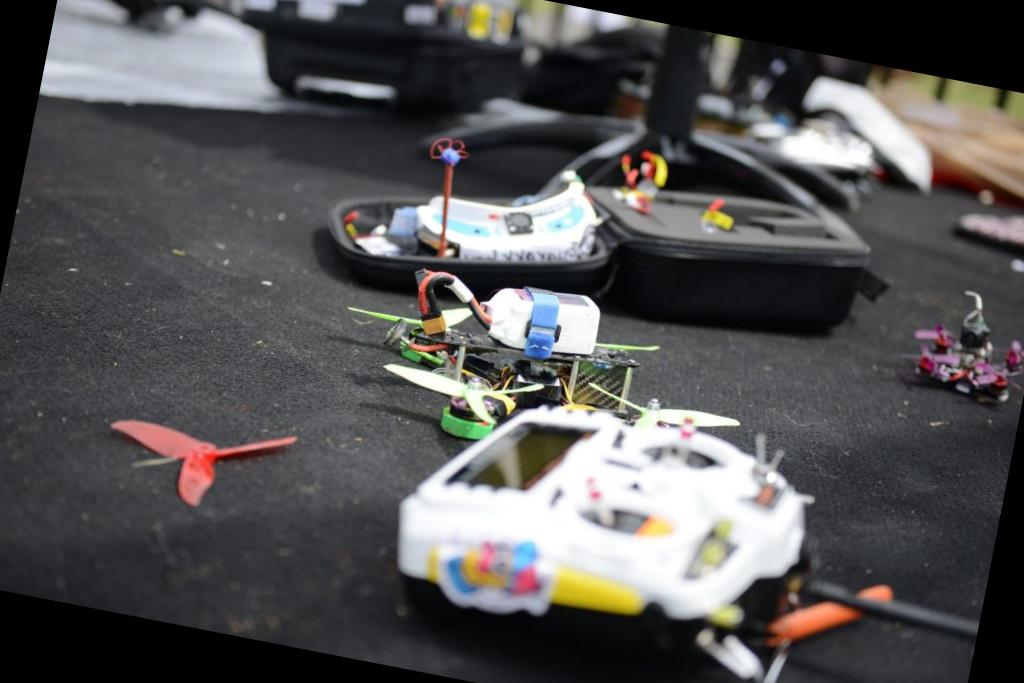drone: (288, 252, 731, 498)
